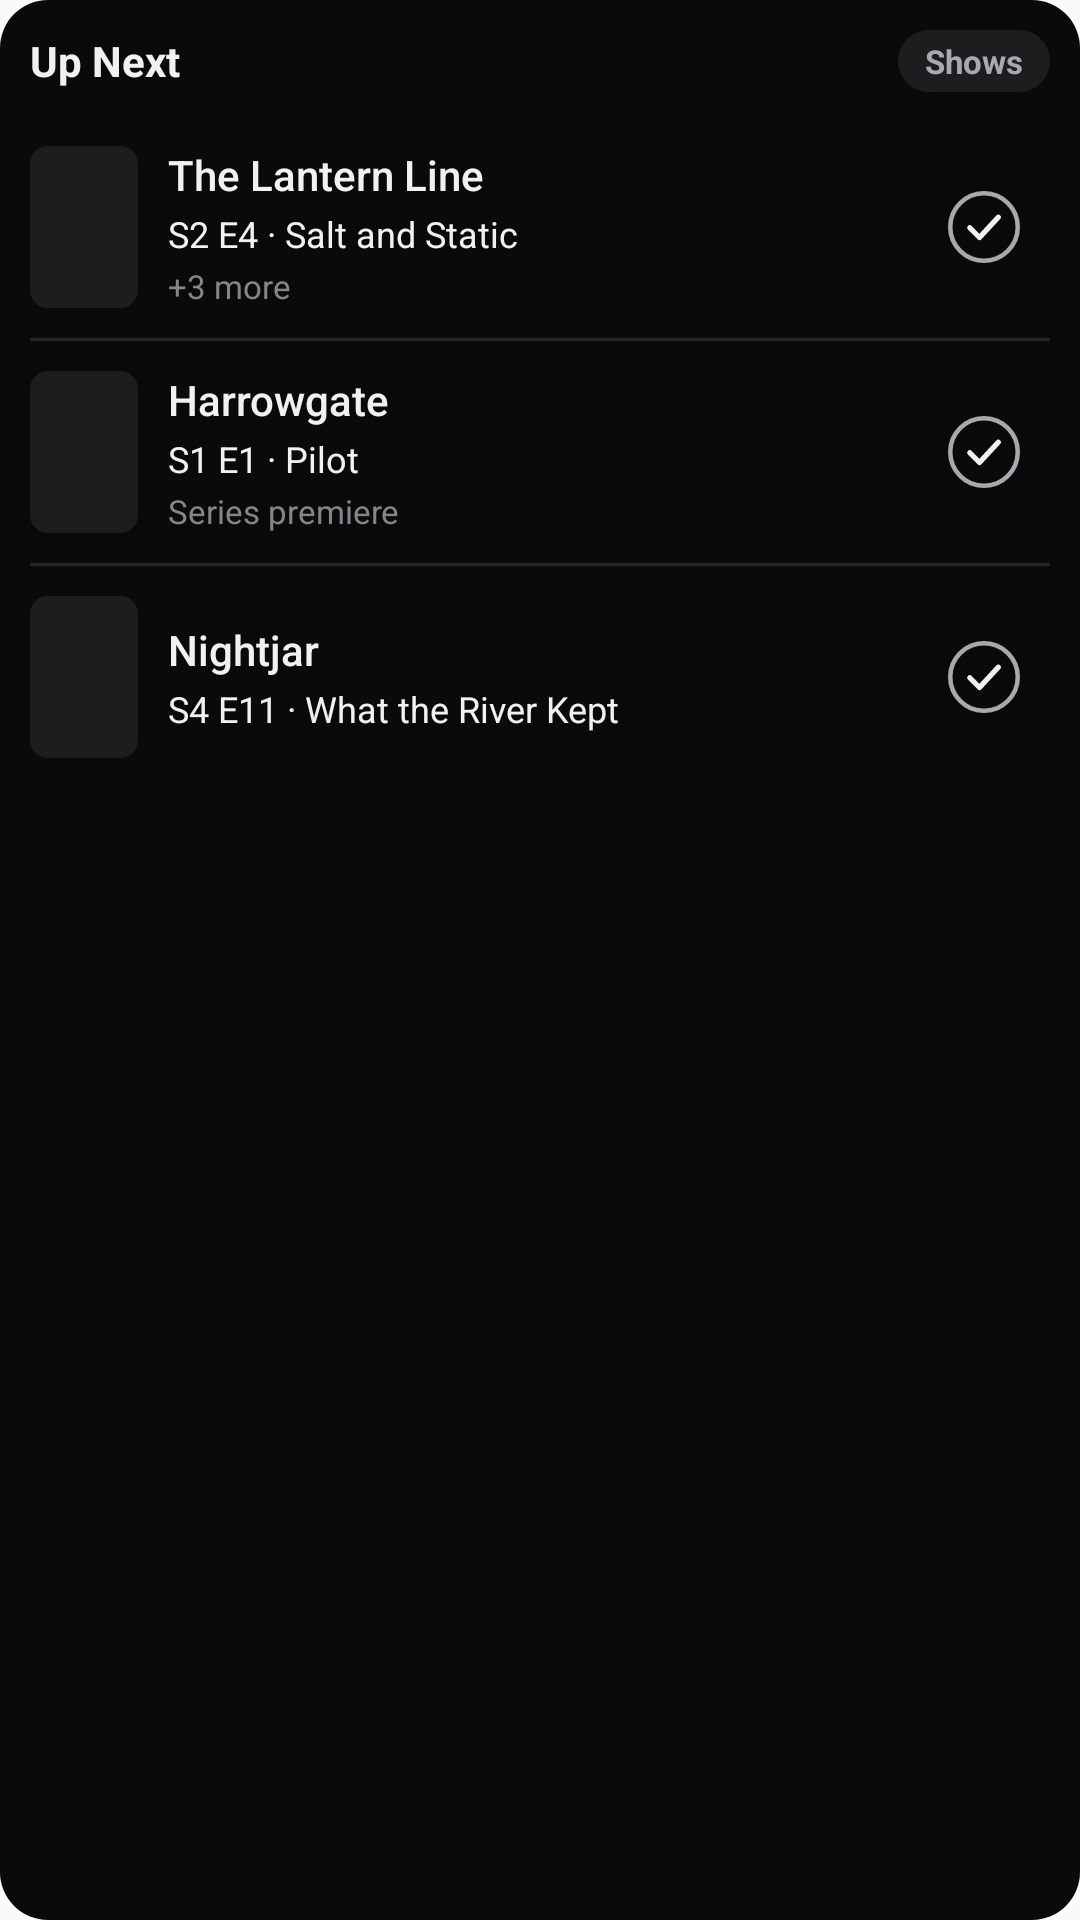

Icons on this 1080x1920 Android screen, each with the point to tap as (x,y):
widget tick: (984,227), (984,452), (984,677)
